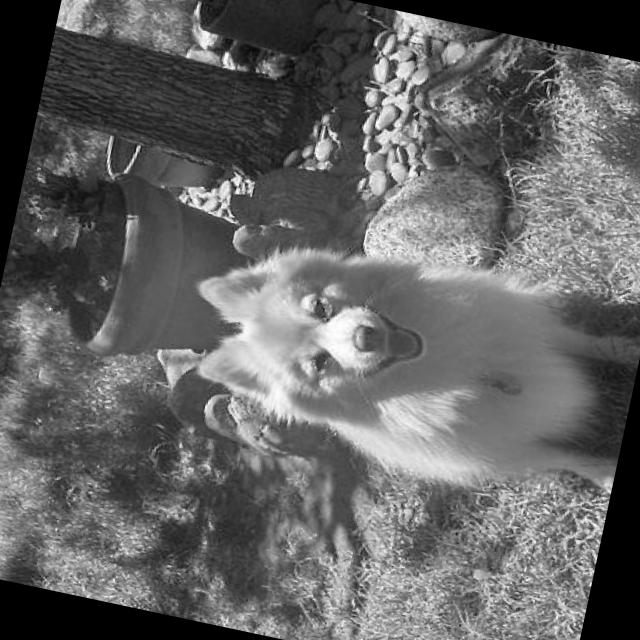sitting: (168, 205, 640, 527)
